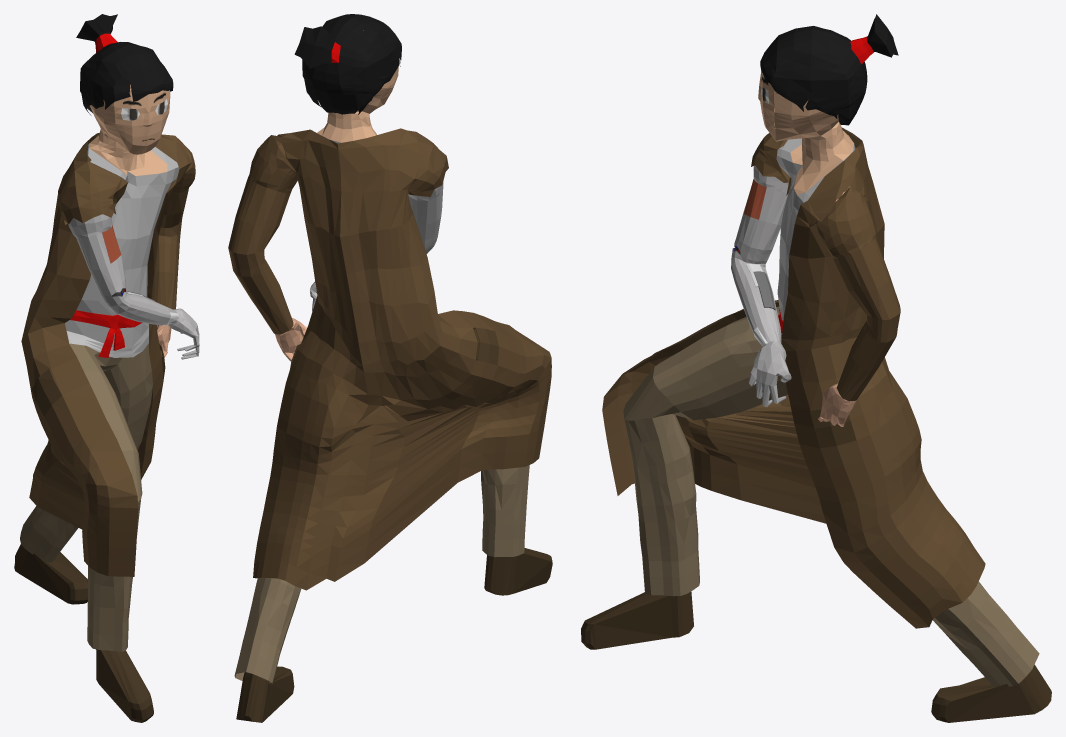
The model's file is One_RR_000005.obj.
The picture shows the model from 3 angles, left to right: view 1: azimuth 30°, elevation 25°; view 2: azimuth 150°, elevation 25°; view 3: azimuth 270°, elevation 25°; orthographic projection. The views are drawn at different scales.
Visible parts, largest first — view 1: Hair_Cube.004; view 2: Hair_Cube.004; view 3: Hair_Cube.004.
Boxes of the visible parts, bbox=[...] form: Hair_Cube.004: bbox=[14, 14, 199, 722]; Hair_Cube.004: bbox=[228, 14, 552, 722]; Hair_Cube.004: bbox=[581, 14, 1051, 722].
Size of the model in its own units: 1.23 by 3.64 by 2.24.
